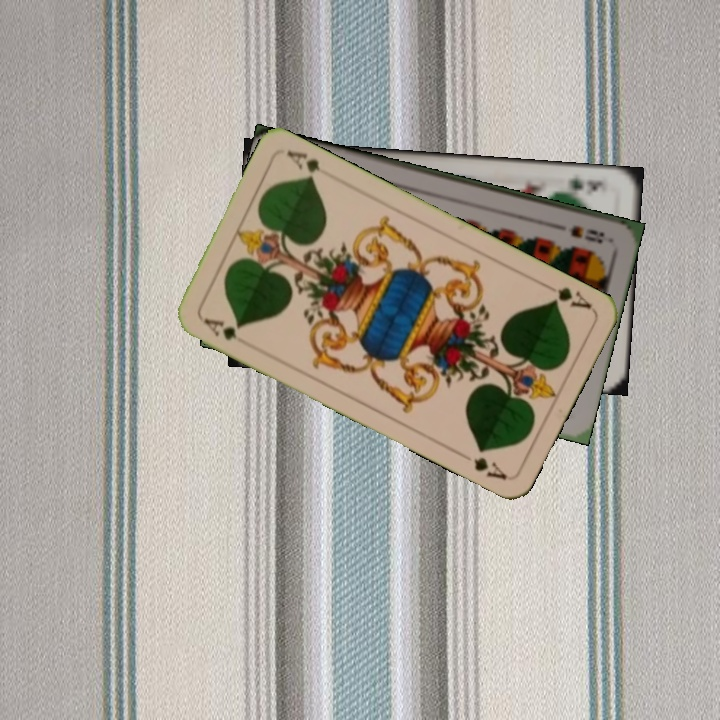GA: (539, 279, 595, 312), (197, 312, 243, 343)
GK: (563, 172, 610, 197)
S8: (565, 221, 607, 247)
